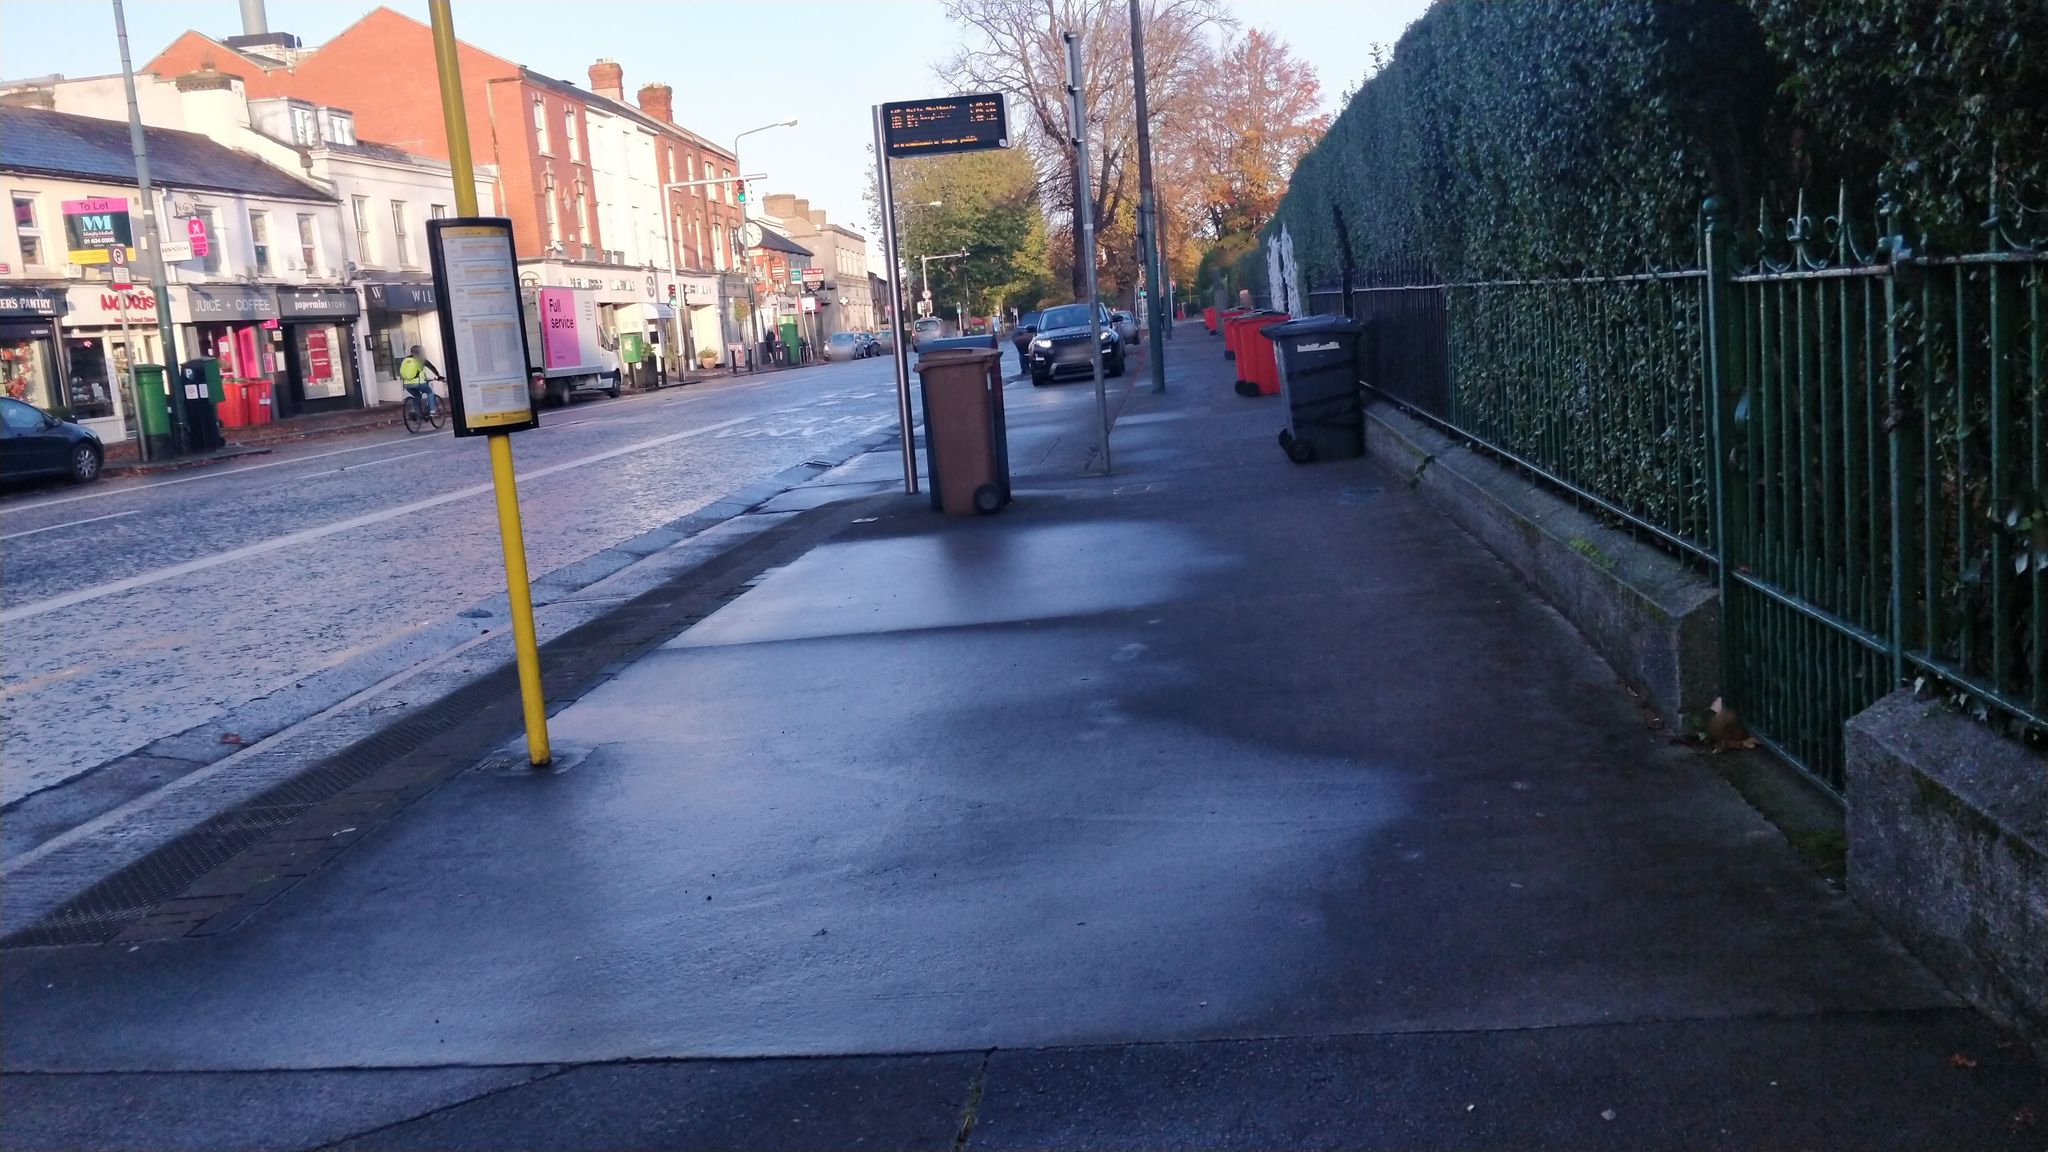property sign: (55, 176, 141, 283)
